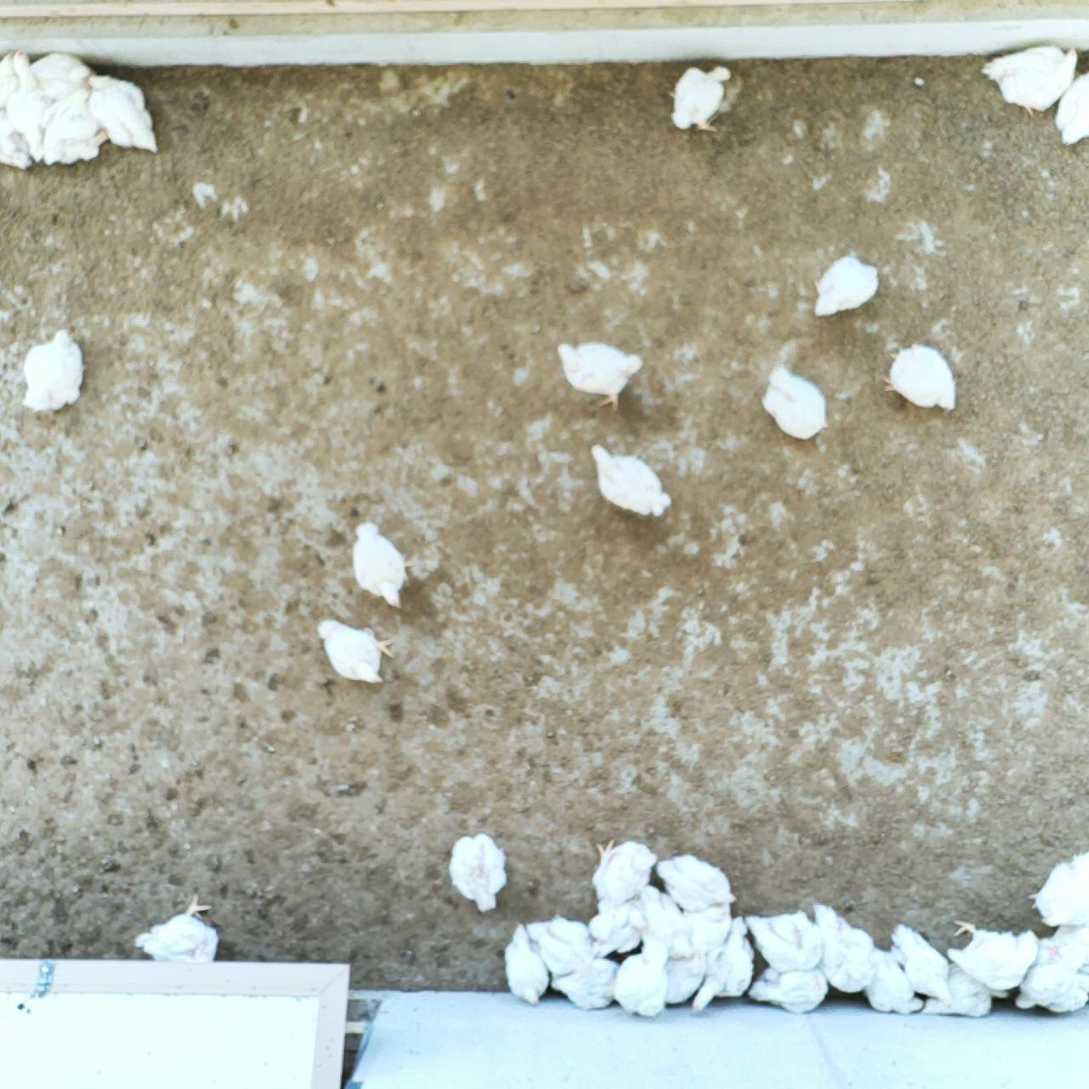chicken: (975, 39, 1082, 121), (548, 332, 648, 416), (946, 915, 1040, 996), (879, 332, 966, 418), (584, 438, 674, 520), (758, 356, 834, 451), (348, 516, 422, 612), (129, 890, 222, 966), (688, 913, 756, 1016), (85, 71, 165, 158), (811, 900, 878, 996), (314, 614, 402, 687), (805, 245, 886, 324), (22, 324, 91, 416), (888, 918, 957, 1009), (38, 85, 111, 170), (444, 829, 513, 916), (661, 61, 740, 135), (921, 960, 1014, 1022), (1023, 844, 1089, 931), (587, 834, 658, 912), (655, 849, 740, 914), (4, 50, 53, 162), (743, 909, 826, 974), (743, 958, 831, 1016), (861, 939, 927, 1013), (499, 918, 553, 1006), (636, 882, 694, 960), (547, 954, 621, 1013), (611, 948, 669, 1021), (526, 913, 589, 976), (587, 900, 647, 961), (27, 48, 91, 103), (1010, 970, 1089, 1014), (1048, 68, 1089, 151), (661, 942, 708, 1007), (1035, 919, 1089, 972), (685, 899, 733, 953), (0, 108, 35, 171), (0, 47, 20, 120)
